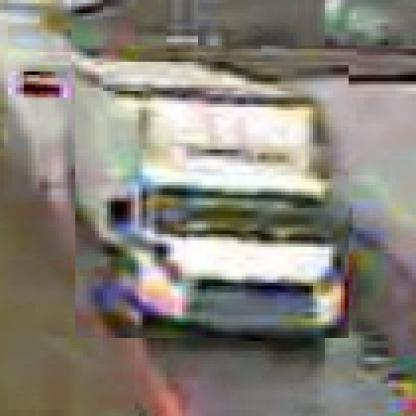container: (72, 63, 350, 342)
